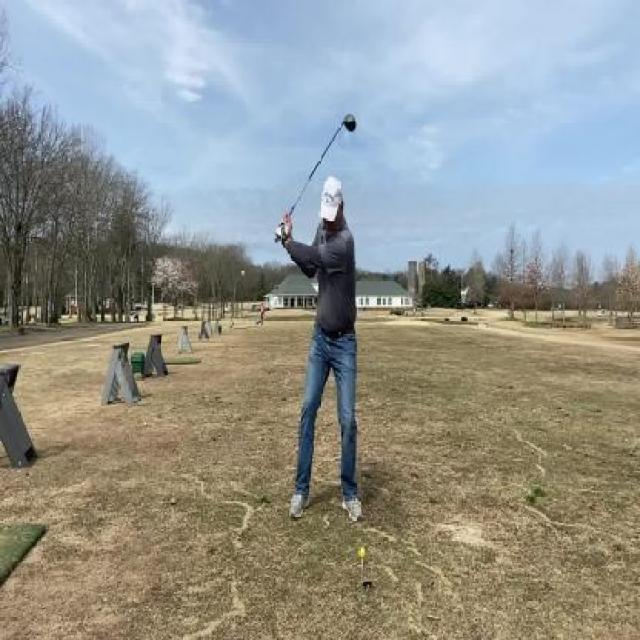club head: (339, 112, 356, 132)
